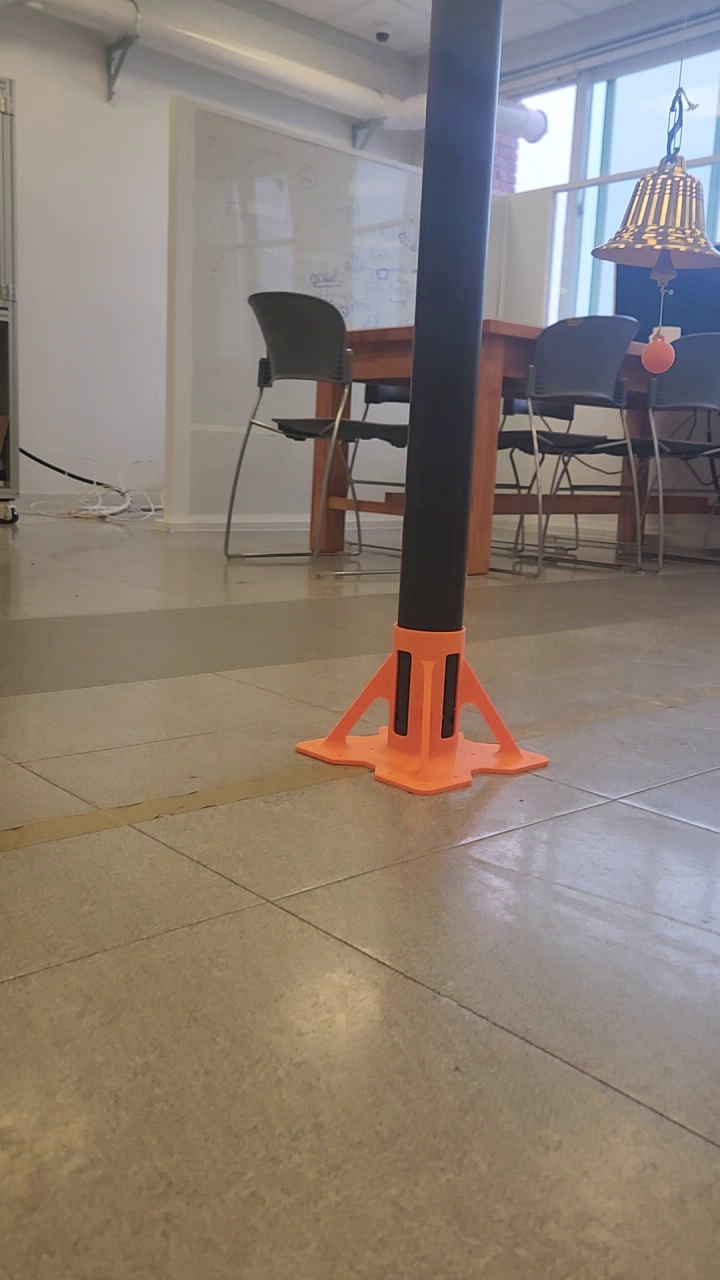bell: (589, 160, 720, 268)
pole: (397, 4, 504, 629)
